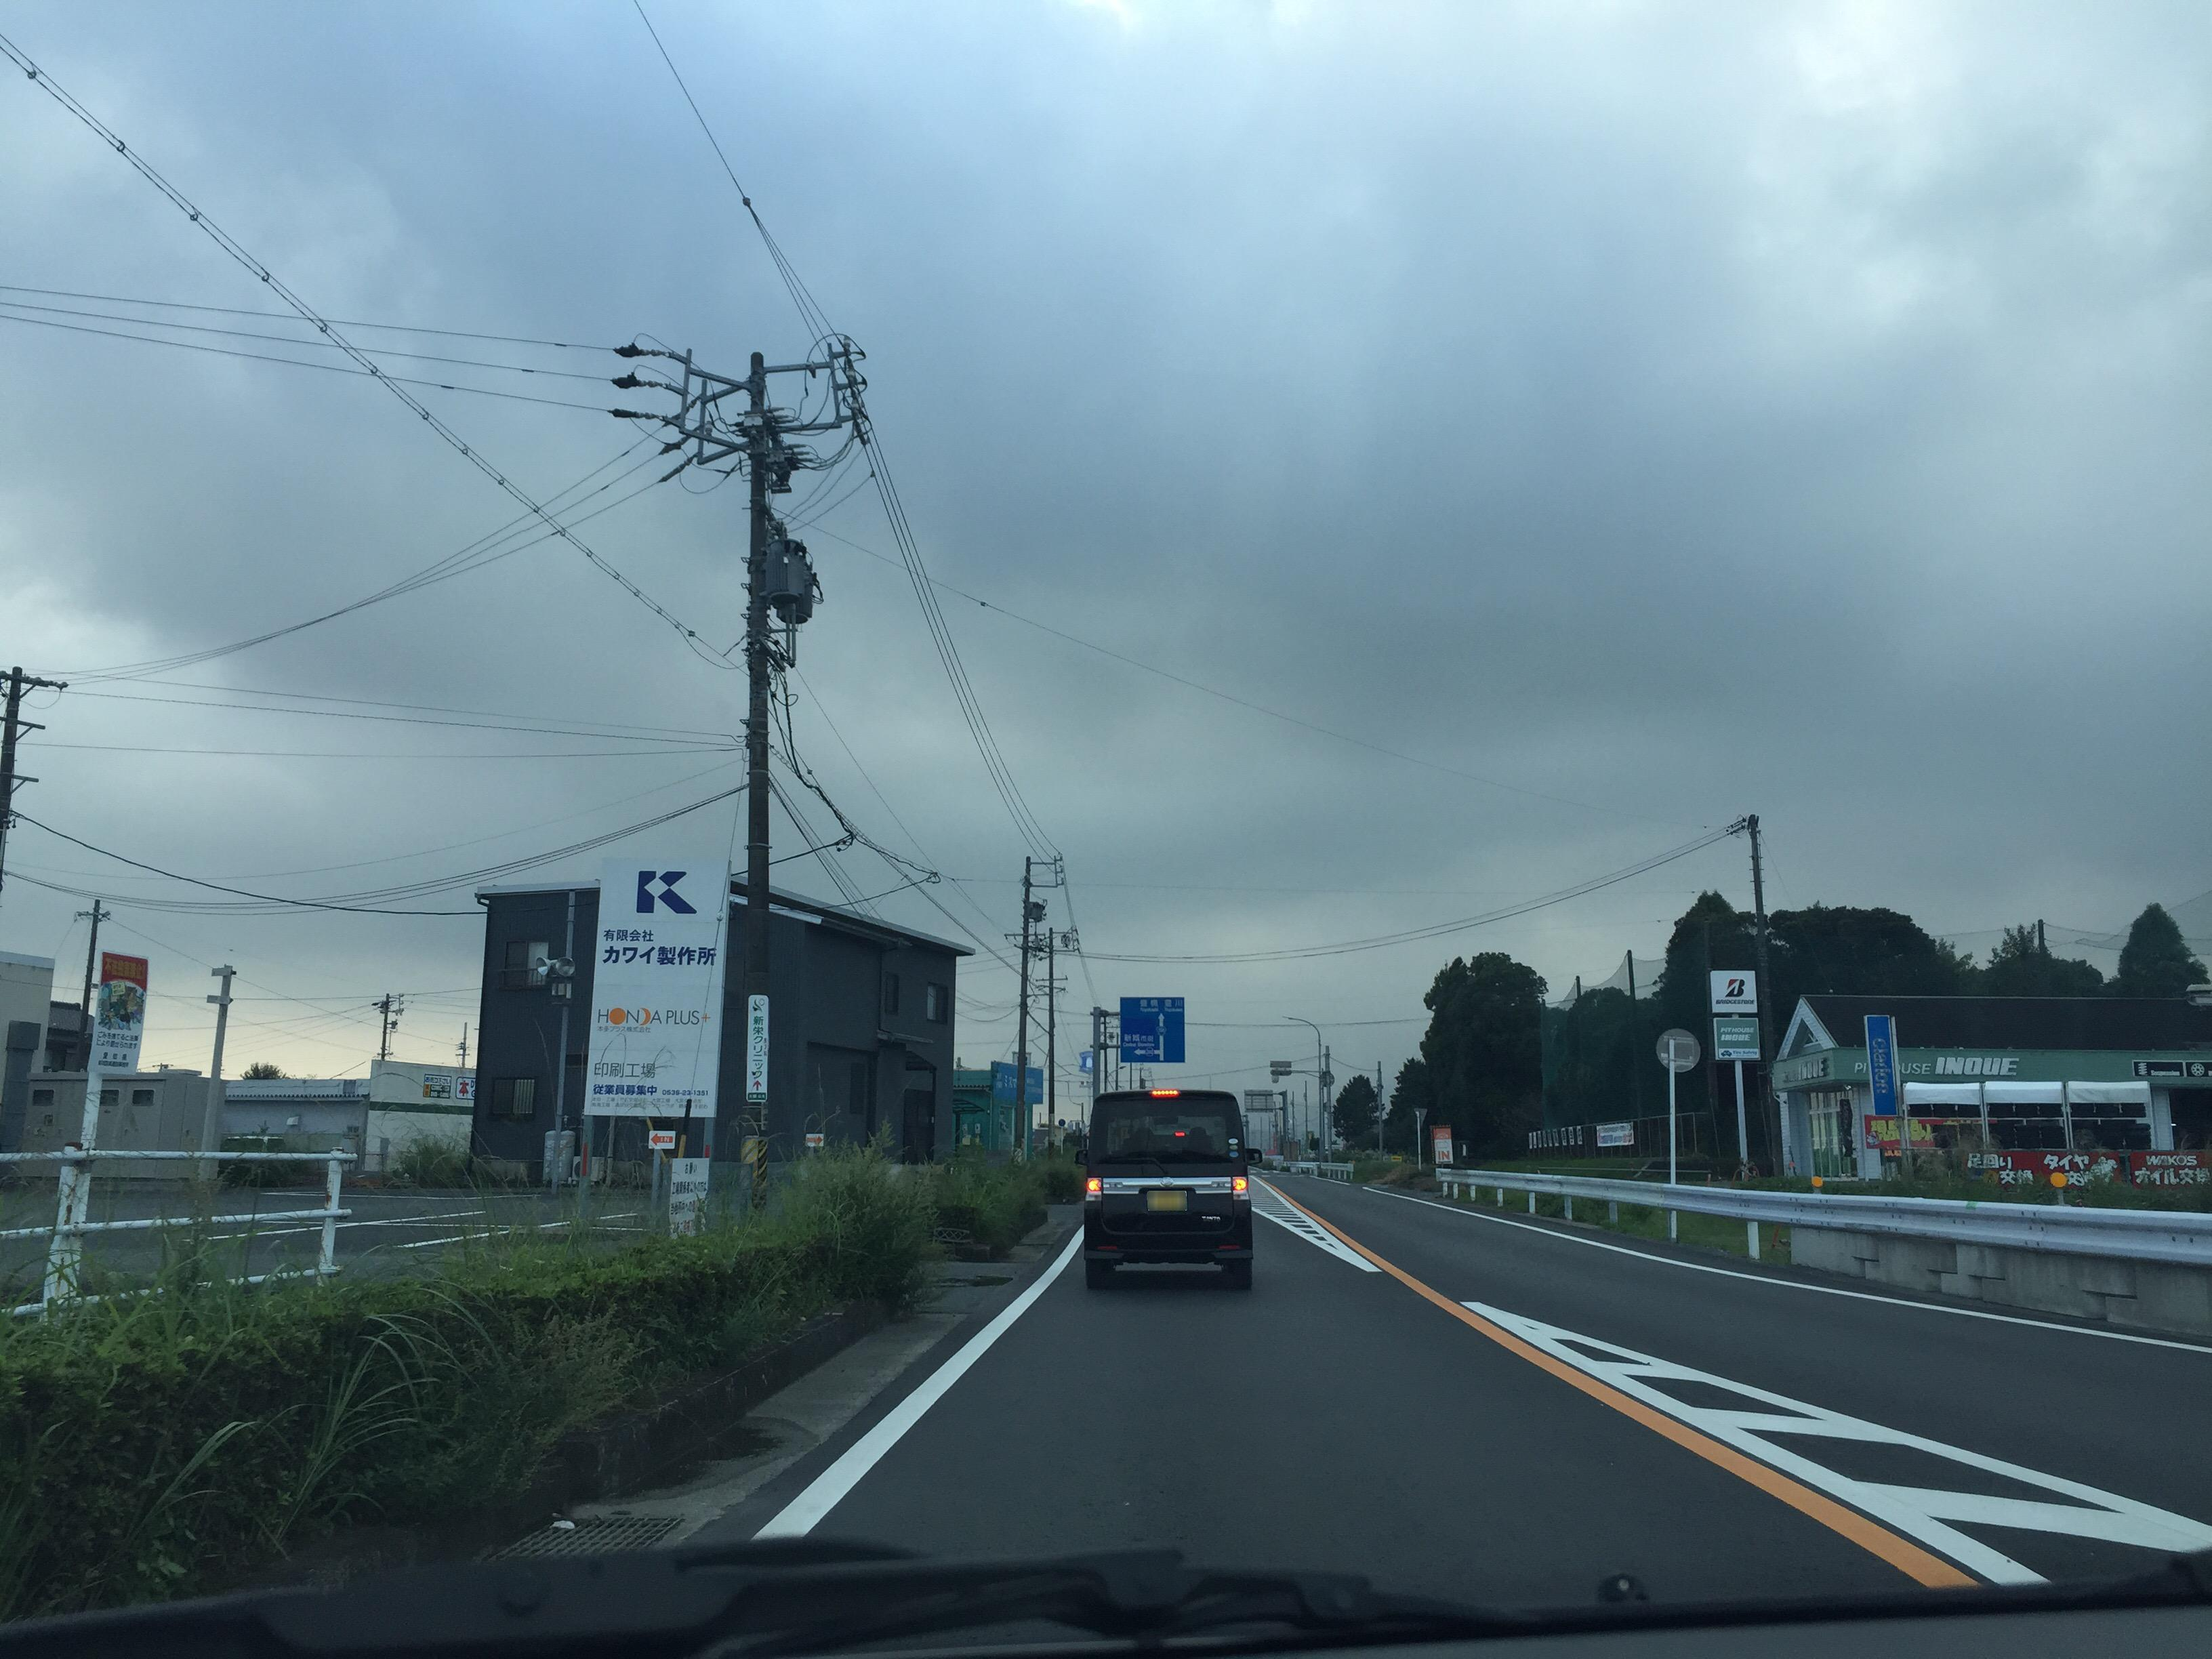vinyl banner: (1952, 1133, 2212, 1208), (1855, 1112, 1946, 1152)
